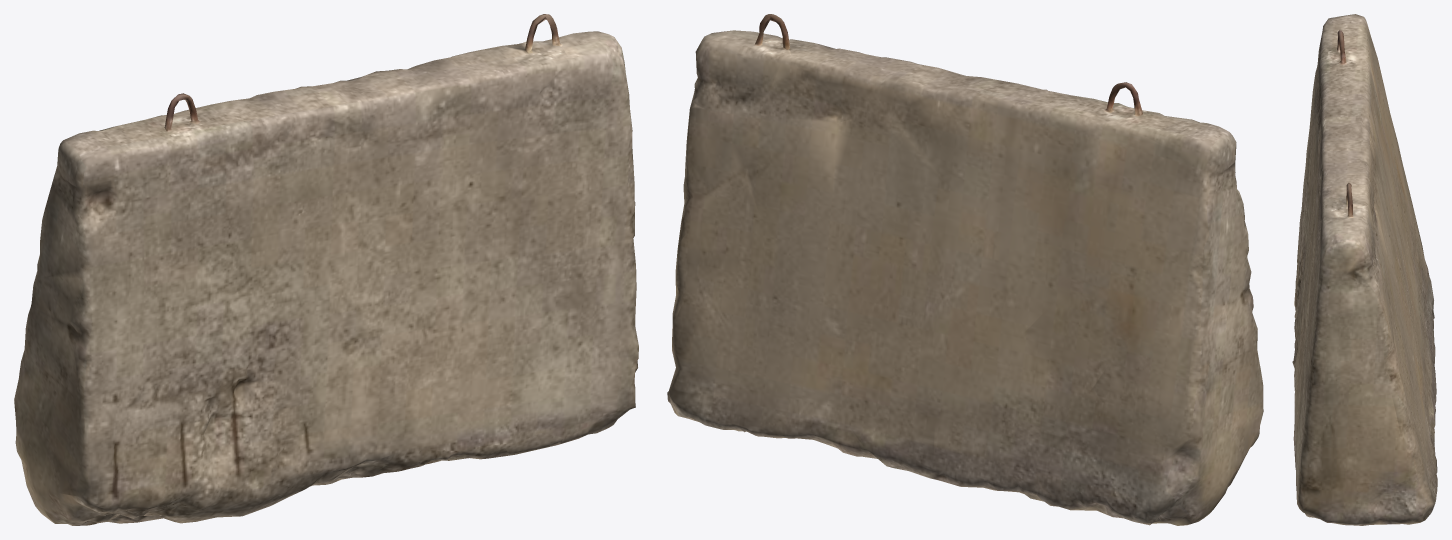
File: concrete_road_barrier_02.glb
3 renders of one model, left to right at view 1: azimuth 30°, elevation 25°; view 2: azimuth 150°, elevation 25°; view 3: azimuth 270°, elevation 25°, orthographic. The views are drawn at different scales.
Visible parts, largest first — view 1: concrete_road_barrier_02; view 2: concrete_road_barrier_02; view 3: concrete_road_barrier_02.
Part boxes in pixels (box(x1,y1,x2,y2)): concrete_road_barrier_02: box(14, 14, 638, 525); concrete_road_barrier_02: box(667, 14, 1263, 525); concrete_road_barrier_02: box(1292, 14, 1437, 525).
Bounding box in the file's own units: 1.56 × 1.11 × 0.4421.
1 material, 1 textured.
